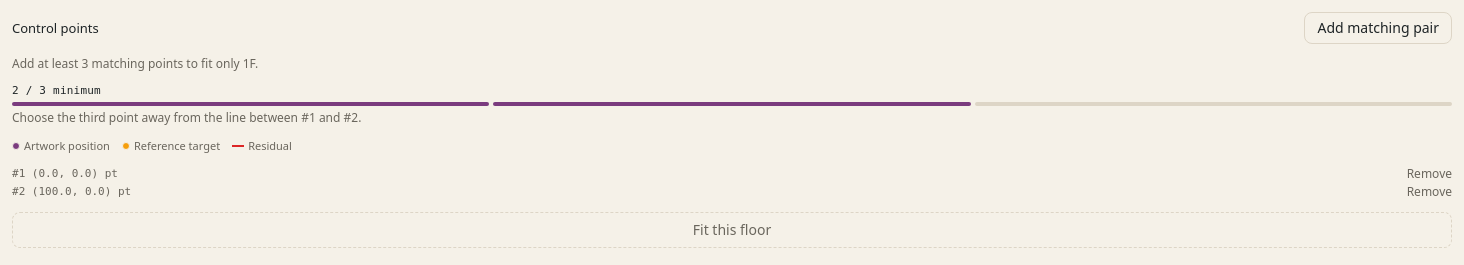
disables fitting below three points while the scale is free
Focus the element showing "Fit this floor" at (732, 230), box [12, 212, 1452, 248]
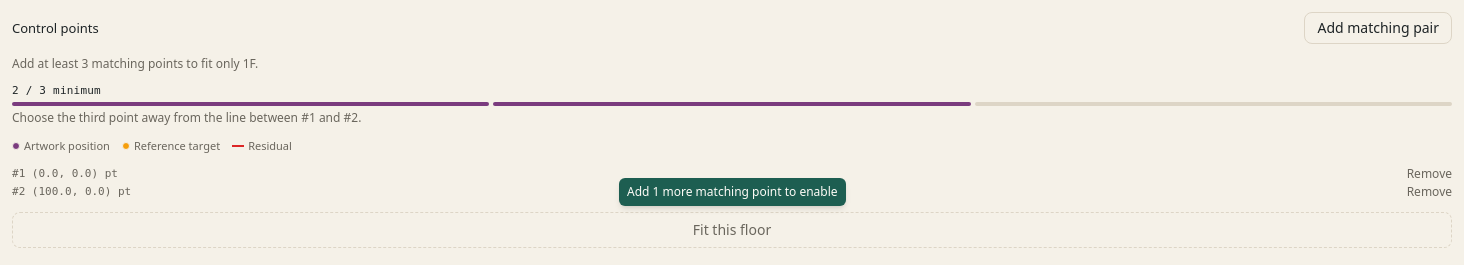
expect the tooltip "Add 1 more matching point to enable" is shown: met, box [619, 178, 846, 206]
